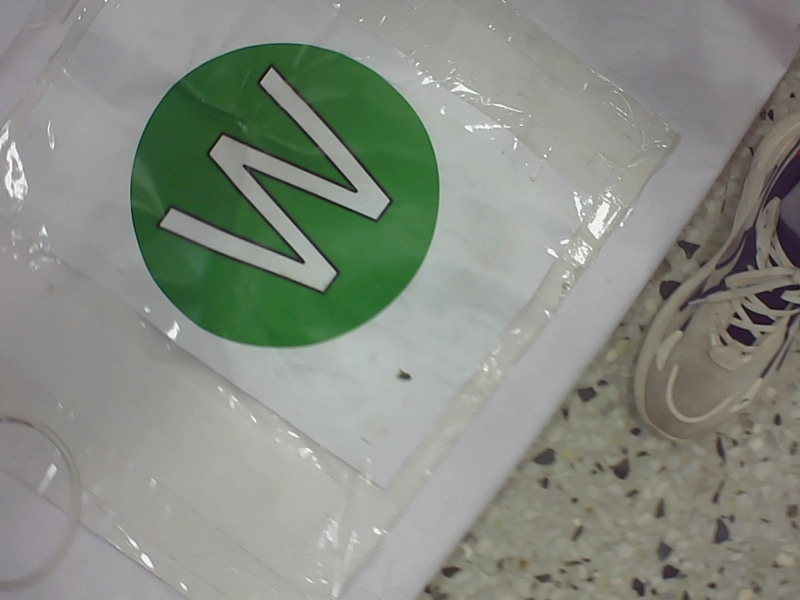areaB: (118, 38, 445, 358)
